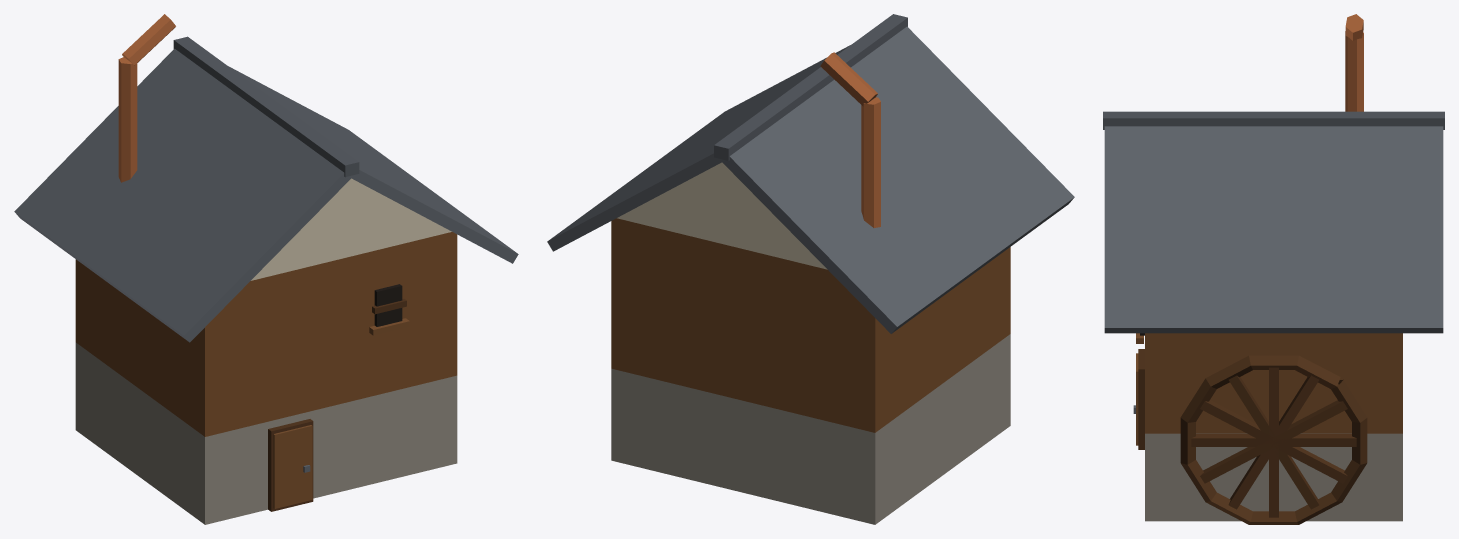
Rendered from gnome_house_b_broken.glb.
3 renders of one model, left to right at view 1: azimuth 30°, elevation 25°; view 2: azimuth 150°, elevation 25°; view 3: azimuth 270°, elevation 25°, orthographic. The views are drawn at different scales.
Visible parts, largest first — view 1: gnome_house_b_piece4, gnome_house_b_piece8, gnome_house_b_piece7, gnome_house_b_piece11, gnome_house_b_piece6, gnome_house_b_piece3, gnome_house_b_piece9, gnome_house_b_piece10, gnome_house_b_piece1, gnome_house_b_piece5, gnome_house_b_piece2, gnome_house_b_piece12 (+1 smaller); view 2: gnome_house_b_piece3, gnome_house_b_piece0, gnome_house_b_piece4, gnome_house_b_piece7, gnome_house_b_piece12, gnome_house_b_piece6, gnome_house_b_piece1, gnome_house_b_piece9, gnome_house_b_piece5, gnome_house_b_piece11, gnome_house_b_piece10, gnome_house_b_piece2; view 3: gnome_house_b_piece0, gnome_house_b_piece2, gnome_house_b_piece10, gnome_house_b_piece12, gnome_house_b_piece1, gnome_house_b_piece11, gnome_house_b_piece8, gnome_house_b_piece7, gnome_house_b_piece3, gnome_house_b_piece4.
Part boxes in pixels (x1=…): gnome_house_b_piece4: x1=129, y1=156, x2=345, y2=524; gnome_house_b_piece8: x1=342, y1=201, x2=518, y2=480; gnome_house_b_piece7: x1=27, y1=14, x2=246, y2=351; gnome_house_b_piece11: x1=279, y1=128, x2=439, y2=389; gnome_house_b_piece6: x1=68, y1=127, x2=306, y2=455; gnome_house_b_piece3: x1=14, y1=36, x2=221, y2=440; gnome_house_b_piece9: x1=98, y1=326, x2=387, y2=494; gnome_house_b_piece10: x1=238, y1=87, x2=469, y2=277; gnome_house_b_piece1: x1=21, y1=68, x2=428, y2=272; gnome_house_b_piece5: x1=77, y1=262, x2=113, y2=457; gnome_house_b_piece2: x1=312, y1=127, x2=501, y2=471; gnome_house_b_piece12: x1=217, y1=58, x2=394, y2=170; gnome_house_b_piece3: x1=698, y1=115, x2=903, y2=524; gnome_house_b_piece0: x1=547, y1=158, x2=775, y2=500; gnome_house_b_piece4: x1=875, y1=50, x2=1074, y2=469; gnome_house_b_piece7: x1=795, y1=52, x2=953, y2=381; gnome_house_b_piece12: x1=622, y1=112, x2=764, y2=397; gnome_house_b_piece6: x1=848, y1=51, x2=1017, y2=444; gnome_house_b_piece1: x1=654, y1=92, x2=910, y2=357; gnome_house_b_piece9: x1=898, y1=350, x2=949, y2=495; gnome_house_b_piece5: x1=877, y1=325, x2=914, y2=513; gnome_house_b_piece11: x1=807, y1=14, x2=929, y2=81; gnome_house_b_piece10: x1=733, y1=49, x2=861, y2=115; gnome_house_b_piece2: x1=647, y1=105, x2=768, y2=168; gnome_house_b_piece0: x1=1233, y1=238, x2=1443, y2=524; gnome_house_b_piece2: x1=1135, y1=156, x2=1278, y2=521; gnome_house_b_piece10: x1=1104, y1=111, x2=1316, y2=268; gnome_house_b_piece12: x1=1276, y1=115, x2=1443, y2=283; gnome_house_b_piece1: x1=1259, y1=111, x2=1365, y2=316; gnome_house_b_piece11: x1=1103, y1=111, x2=1197, y2=228; gnome_house_b_piece8: x1=1104, y1=267, x2=1184, y2=404; gnome_house_b_piece7: x1=1345, y1=14, x2=1363, y2=111; gnome_house_b_piece3: x1=1363, y1=111, x2=1444, y2=145; gnome_house_b_piece4: x1=1133, y1=349, x2=1144, y2=449.
Bounding box in the file's own units: 2.39 × 2.85 × 2.12.
